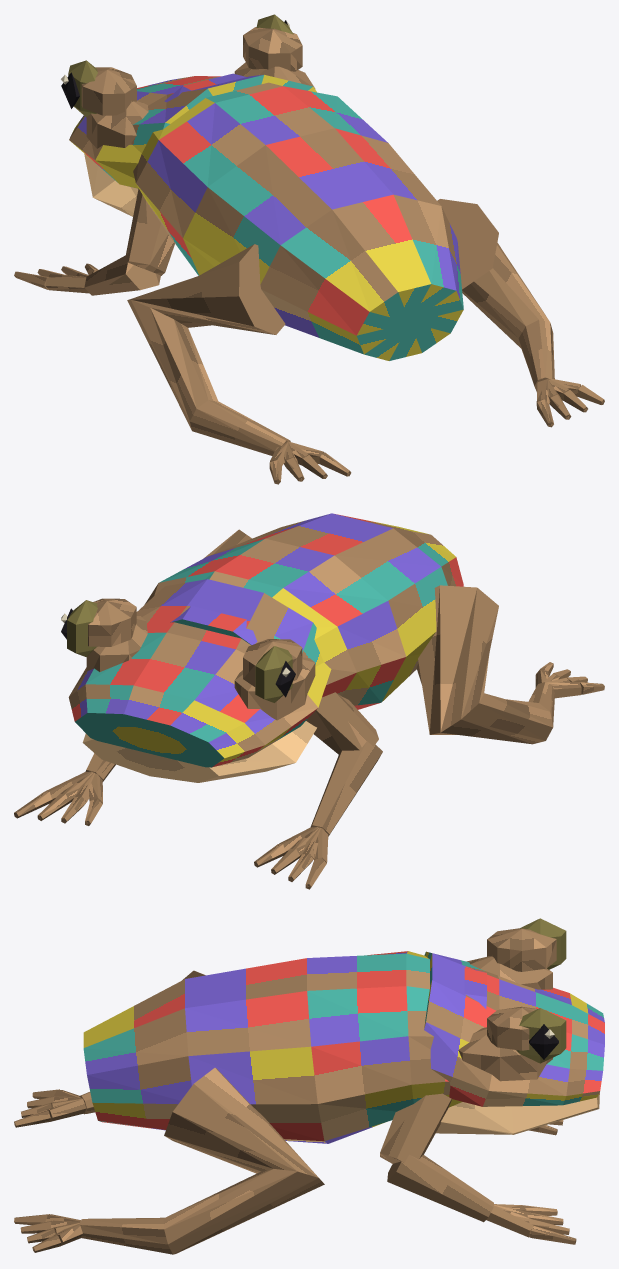
Rendered from mon_palette_frog.glb.
3 renders of one model, top to bottom at view 1: azimuth 30°, elevation 25°; view 2: azimuth 150°, elevation 25°; view 3: azimuth 270°, elevation 25°, orthographic. The views are drawn at different scales.
Visible parts, largest first — view 1: closed_body; view 2: closed_body; view 3: closed_body.
Boxes of the visible parts, x1=… form: closed_body: x1=14, y1=14, x2=604, y2=484; closed_body: x1=14, y1=513, x2=604, y2=889; closed_body: x1=14, y1=918, x2=604, y2=1254.
Bounding box in the file's own units: 0.1198 × 0.0687 × 0.173.
1 material, 1 textured.
